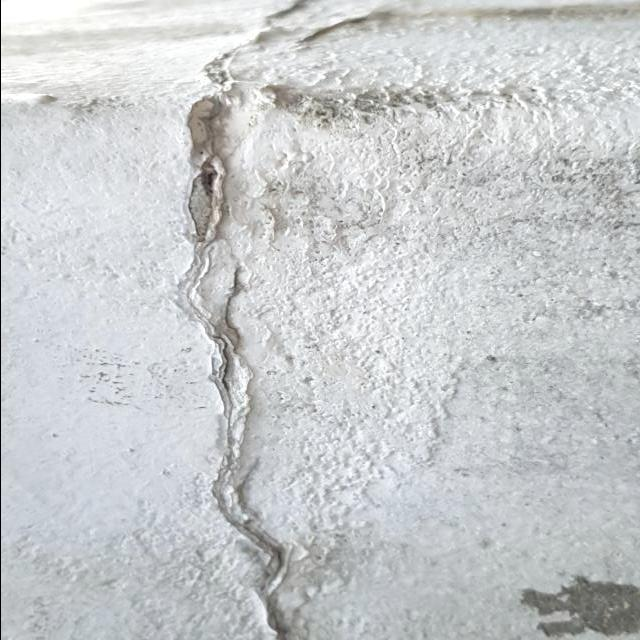SurfaceCrack: (150, 0, 350, 639)
